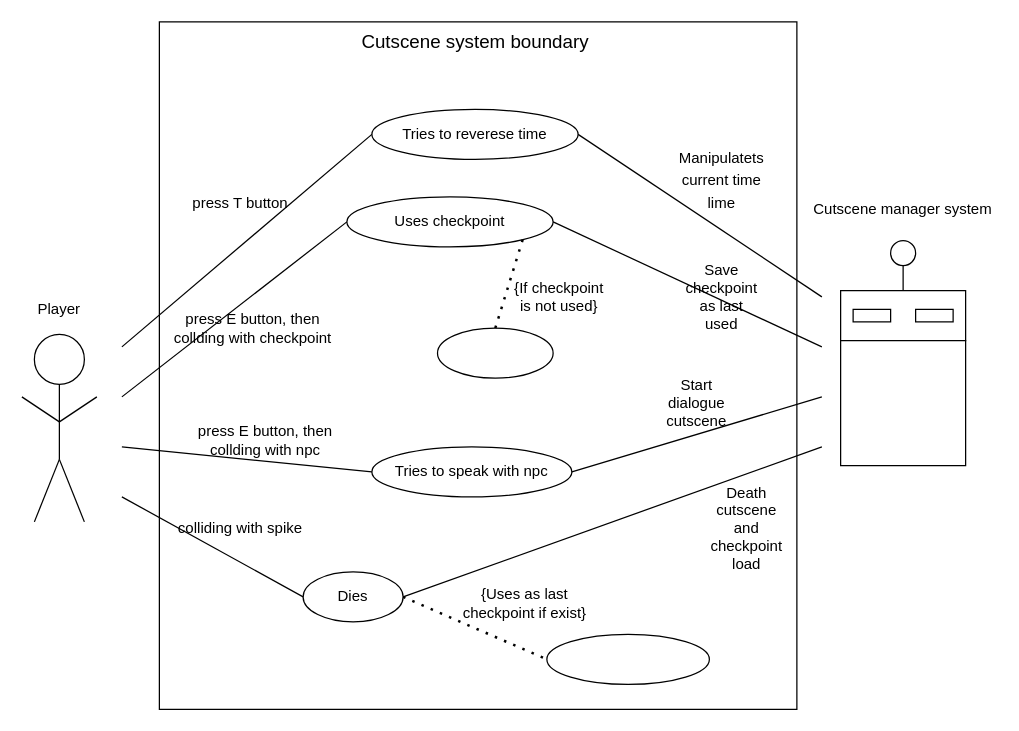
Image size: 1019x731. Some labels were removed from this diagram. Here are the shapes that lost their labels. From the top down, the box of each, then its label:
(436, 327, 553, 378): Use animation
(546, 633, 709, 684): Last checkpoint
